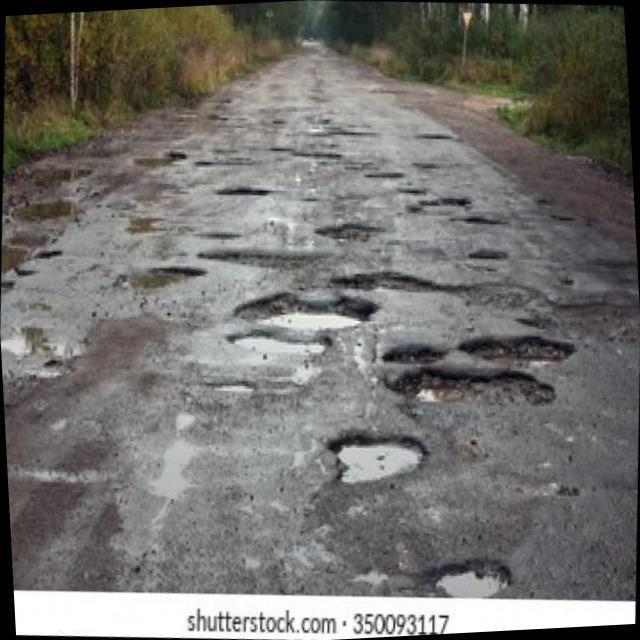Pothole: (382, 369, 559, 410), (326, 432, 430, 487), (237, 291, 380, 330), (457, 337, 579, 365), (427, 559, 514, 598), (225, 330, 333, 354), (382, 346, 449, 364)
